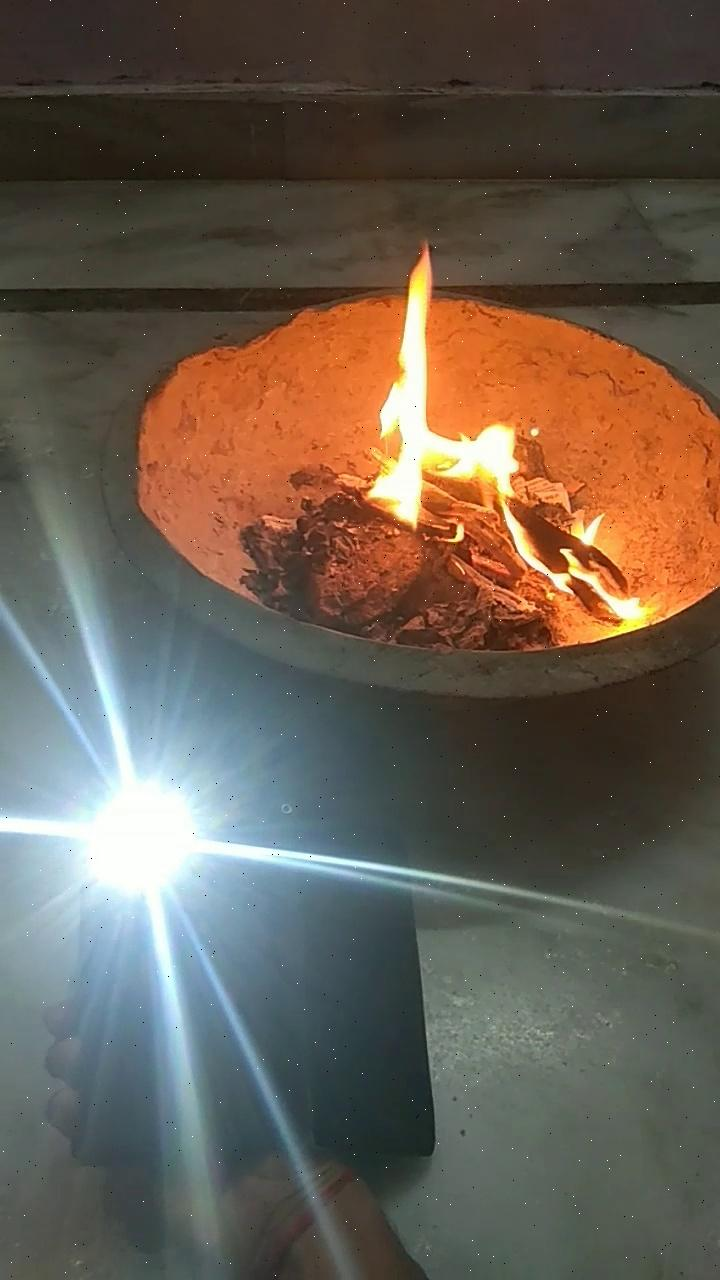fire: (373, 243, 657, 610)
